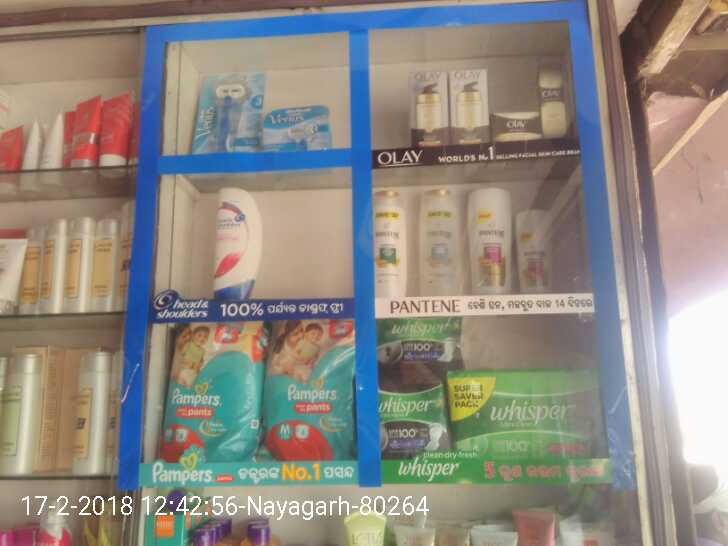venus: (206, 81, 260, 145), (260, 105, 326, 145)
